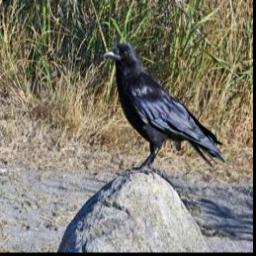Crow: (102, 37, 227, 180)
